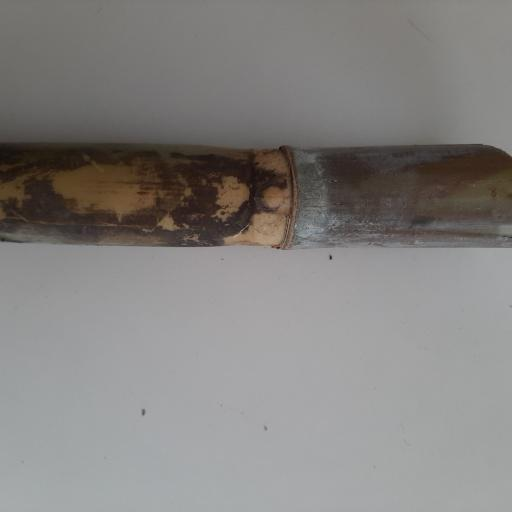Bud: (255, 182, 288, 210)
